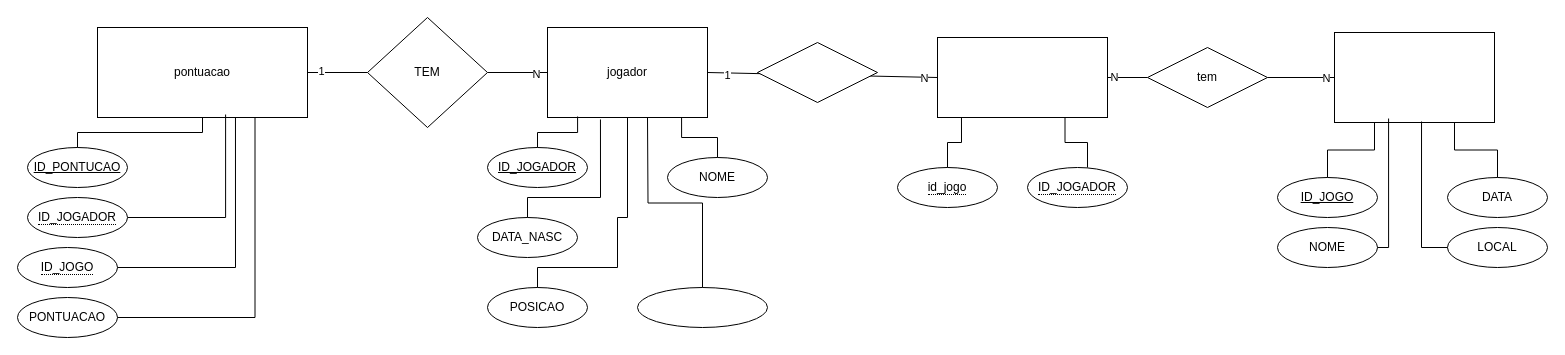
The diagram is 1565 pixels wide and 355 high, and some of its shapes have lost their labels. The centre of each missing label's shape, as x and y in pixels:
jogo: (1414,77)
NASCIONALIDADE: (702,307)
PARTICIPA: (817,72)
participacao: (1022,77)
